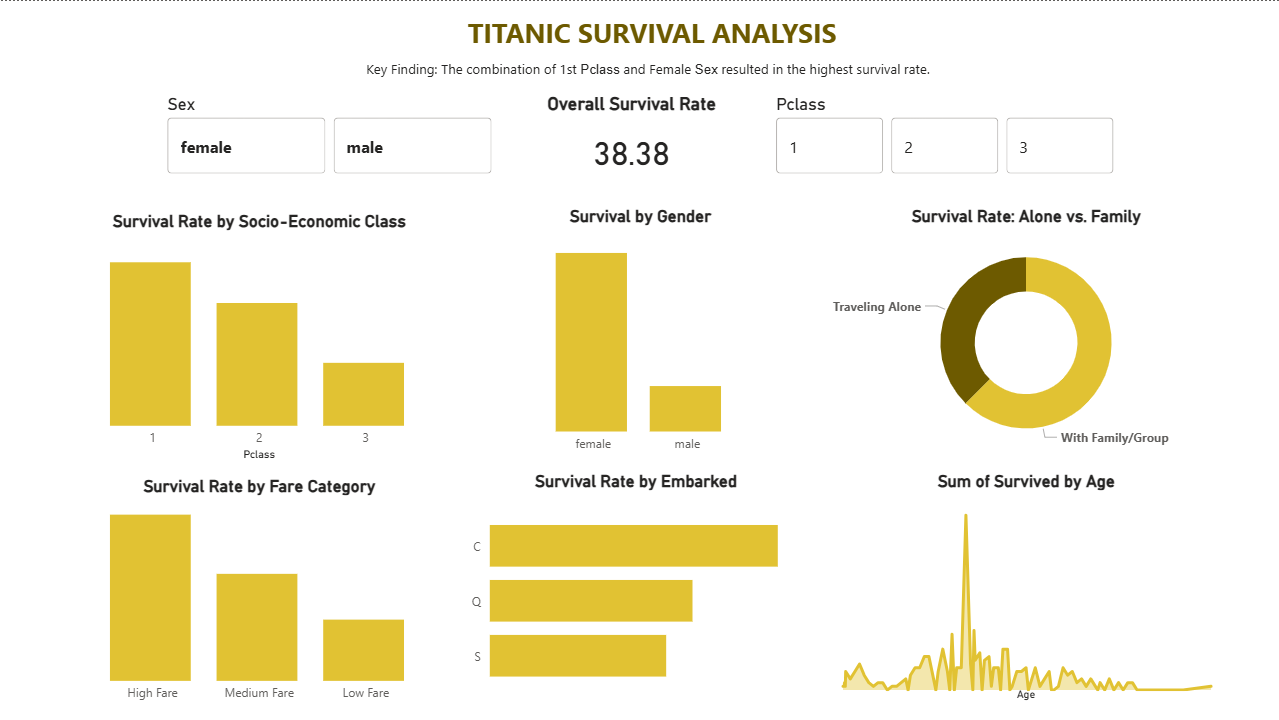

The dashboard page shown, as its layout file describes it:
{"tool":"powerbi","page":{"name":"Page 2","canvas":[1280,720],"ordinal":0},"visuals":[{"type":"card","title":"Overall Survival Rate","fields":{"Values":["public titanic.Survival Rate %"]},"box":[522.9,92.1,218.6,100],"z":0},{"type":"clusteredColumnChart","title":"Survival Rate by Socio-Economic Class","fields":{"Category":["public titanic.Pclass"],"Y":["public titanic.Survival Rate %"]},"box":[62.8,210.5,393.8,254.8],"z":1000},{"type":"columnChart","title":"Survival by Gender","fields":{"Category":["public titanic.Sex"],"Y":["public titanic.Survival Rate %"]},"box":[465.7,205,348.6,255.7],"z":2000},{"type":"donutChart","title":"Survival Rate: Alone vs. Family","fields":{"Y":["public titanic.Survival Rate %"],"Category":["public titanic.Travel Status"]},"box":[825.8,205.5,400,254.8],"z":3000},{"type":"clusteredColumnChart","title":"Survival Rate by Fare Category","fields":{"Category":["public titanic.Fare Category"],"Y":["public titanic.Survival Rate %"]},"box":[62.8,475.1,393.8,235.1],"z":4000},{"type":"clusteredBarChart","title":"Survival Rate by Embarked","fields":{"Y":["public titanic.Survival Rate %"],"Category":["public titanic.Embarked"]},"box":[465.2,470.2,342.2,235.1],"z":5000},{"type":"areaChart","fields":{"Y":["Sum(public titanic.Survived)"],"Category":["public titanic.Age"]},"box":[825.8,470.2,400,235.1],"z":6000},{"type":"advancedSlicerVisual","fields":{"Values":["public titanic.Sex"]},"box":[162.9,92.1,335.7,85.7],"z":7000},{"type":"advancedSlicerVisual","fields":{"Values":["public titanic.Pclass"]},"box":[771.4,92.1,348.6,85.7],"z":8000},{"type":"textbox","box":[422.2,8.6,459.1,45.5],"z":9000},{"type":"textbox","box":[361.8,54.2,583.4,38.2],"z":10000}]}

Visuals, with their boxes in screenshot pixels (x1, y1, x2, y2), scaled from the page's 1280x720 canvas onto the 1279x720 screenshot:
"Overall Survival Rate" card: Rect(522, 92, 741, 192)
"Survival Rate by Socio-Economic Class" clusteredColumnChart: Rect(63, 210, 456, 465)
"Survival by Gender" columnChart: Rect(465, 205, 814, 461)
"Survival Rate: Alone vs. Family" donutChart: Rect(825, 206, 1225, 460)
"Survival Rate by Fare Category" clusteredColumnChart: Rect(63, 475, 456, 710)
"Survival Rate by Embarked" clusteredBarChart: Rect(465, 470, 807, 705)
areaChart - Sum(public titanic.Survived) x public titanic.Age: Rect(825, 470, 1225, 705)
advancedSlicerVisual - public titanic.Sex: Rect(163, 92, 498, 178)
advancedSlicerVisual - public titanic.Pclass: Rect(771, 92, 1119, 178)
textbox: Rect(422, 9, 881, 54)
textbox: Rect(362, 54, 944, 92)
